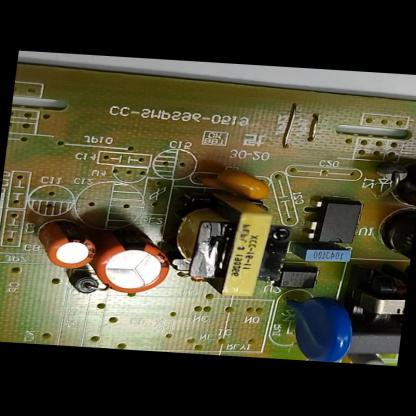Cap1: (91, 221, 175, 295)
Cap2: (35, 221, 100, 270)
Cap3: (388, 158, 416, 226)
Cap4: (373, 217, 415, 274)
MOSFET: (308, 198, 366, 245)
Mov: (281, 291, 360, 363)
Resistor: (351, 353, 390, 365)
Transformer: (168, 192, 292, 300), (358, 276, 408, 325)
